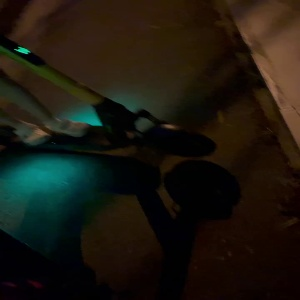human on a scooter: (1, 1, 250, 219)
